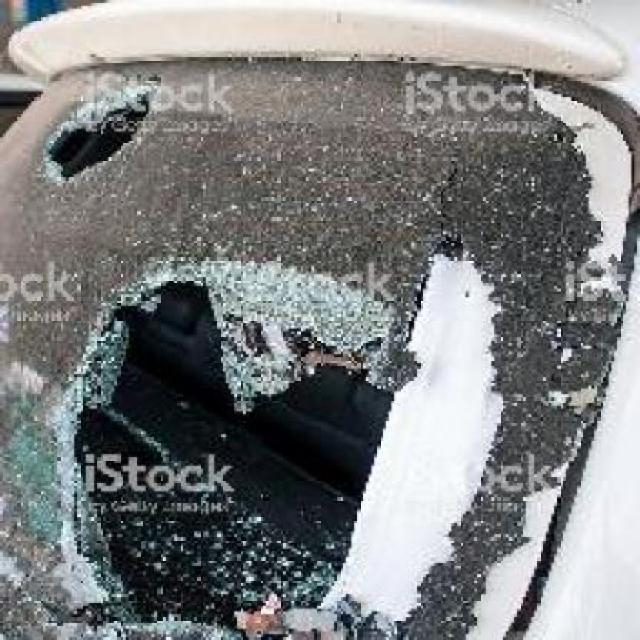damaged-rear-window: (0, 58, 638, 638)
